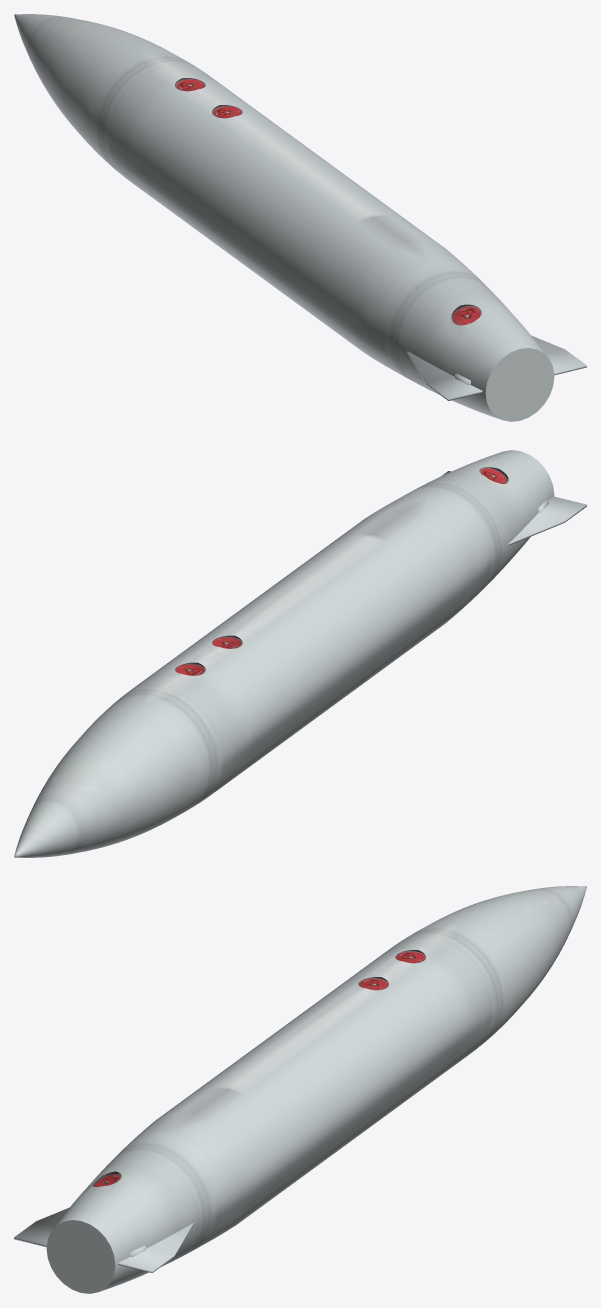
The model's file is f16ftk.glb.
3 views of the same model, one above another, from view 1: azimuth 30°, elevation 25°; view 2: azimuth 150°, elevation 25°; view 3: azimuth 330°, elevation 25° (orthographic).
Parts seen in each view (by area): view 1: f16ftk_body; view 2: f16ftk_body; view 3: f16ftk_body.
Boxes of the visible parts, x1,y1,x2,y2 form: f16ftk_body: (14,14,586,421); f16ftk_body: (14,450,586,857); f16ftk_body: (14,886,586,1293).
Bounding box in the file's own units: 0.8654 × 0.7164 × 5.48.
1 material, 1 textured.
